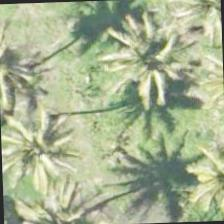Kelapa_Sawit: (0, 111, 93, 204), (70, 12, 162, 106), (18, 174, 112, 223), (179, 148, 223, 222), (162, 0, 222, 46)
